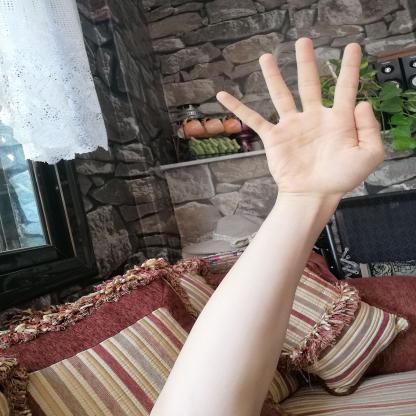SHEEN: (204, 31, 396, 204)
